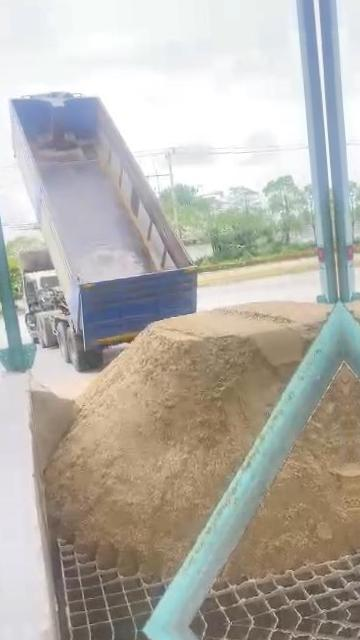sand: (46, 303, 327, 575), (227, 370, 359, 577), (31, 377, 75, 476)
